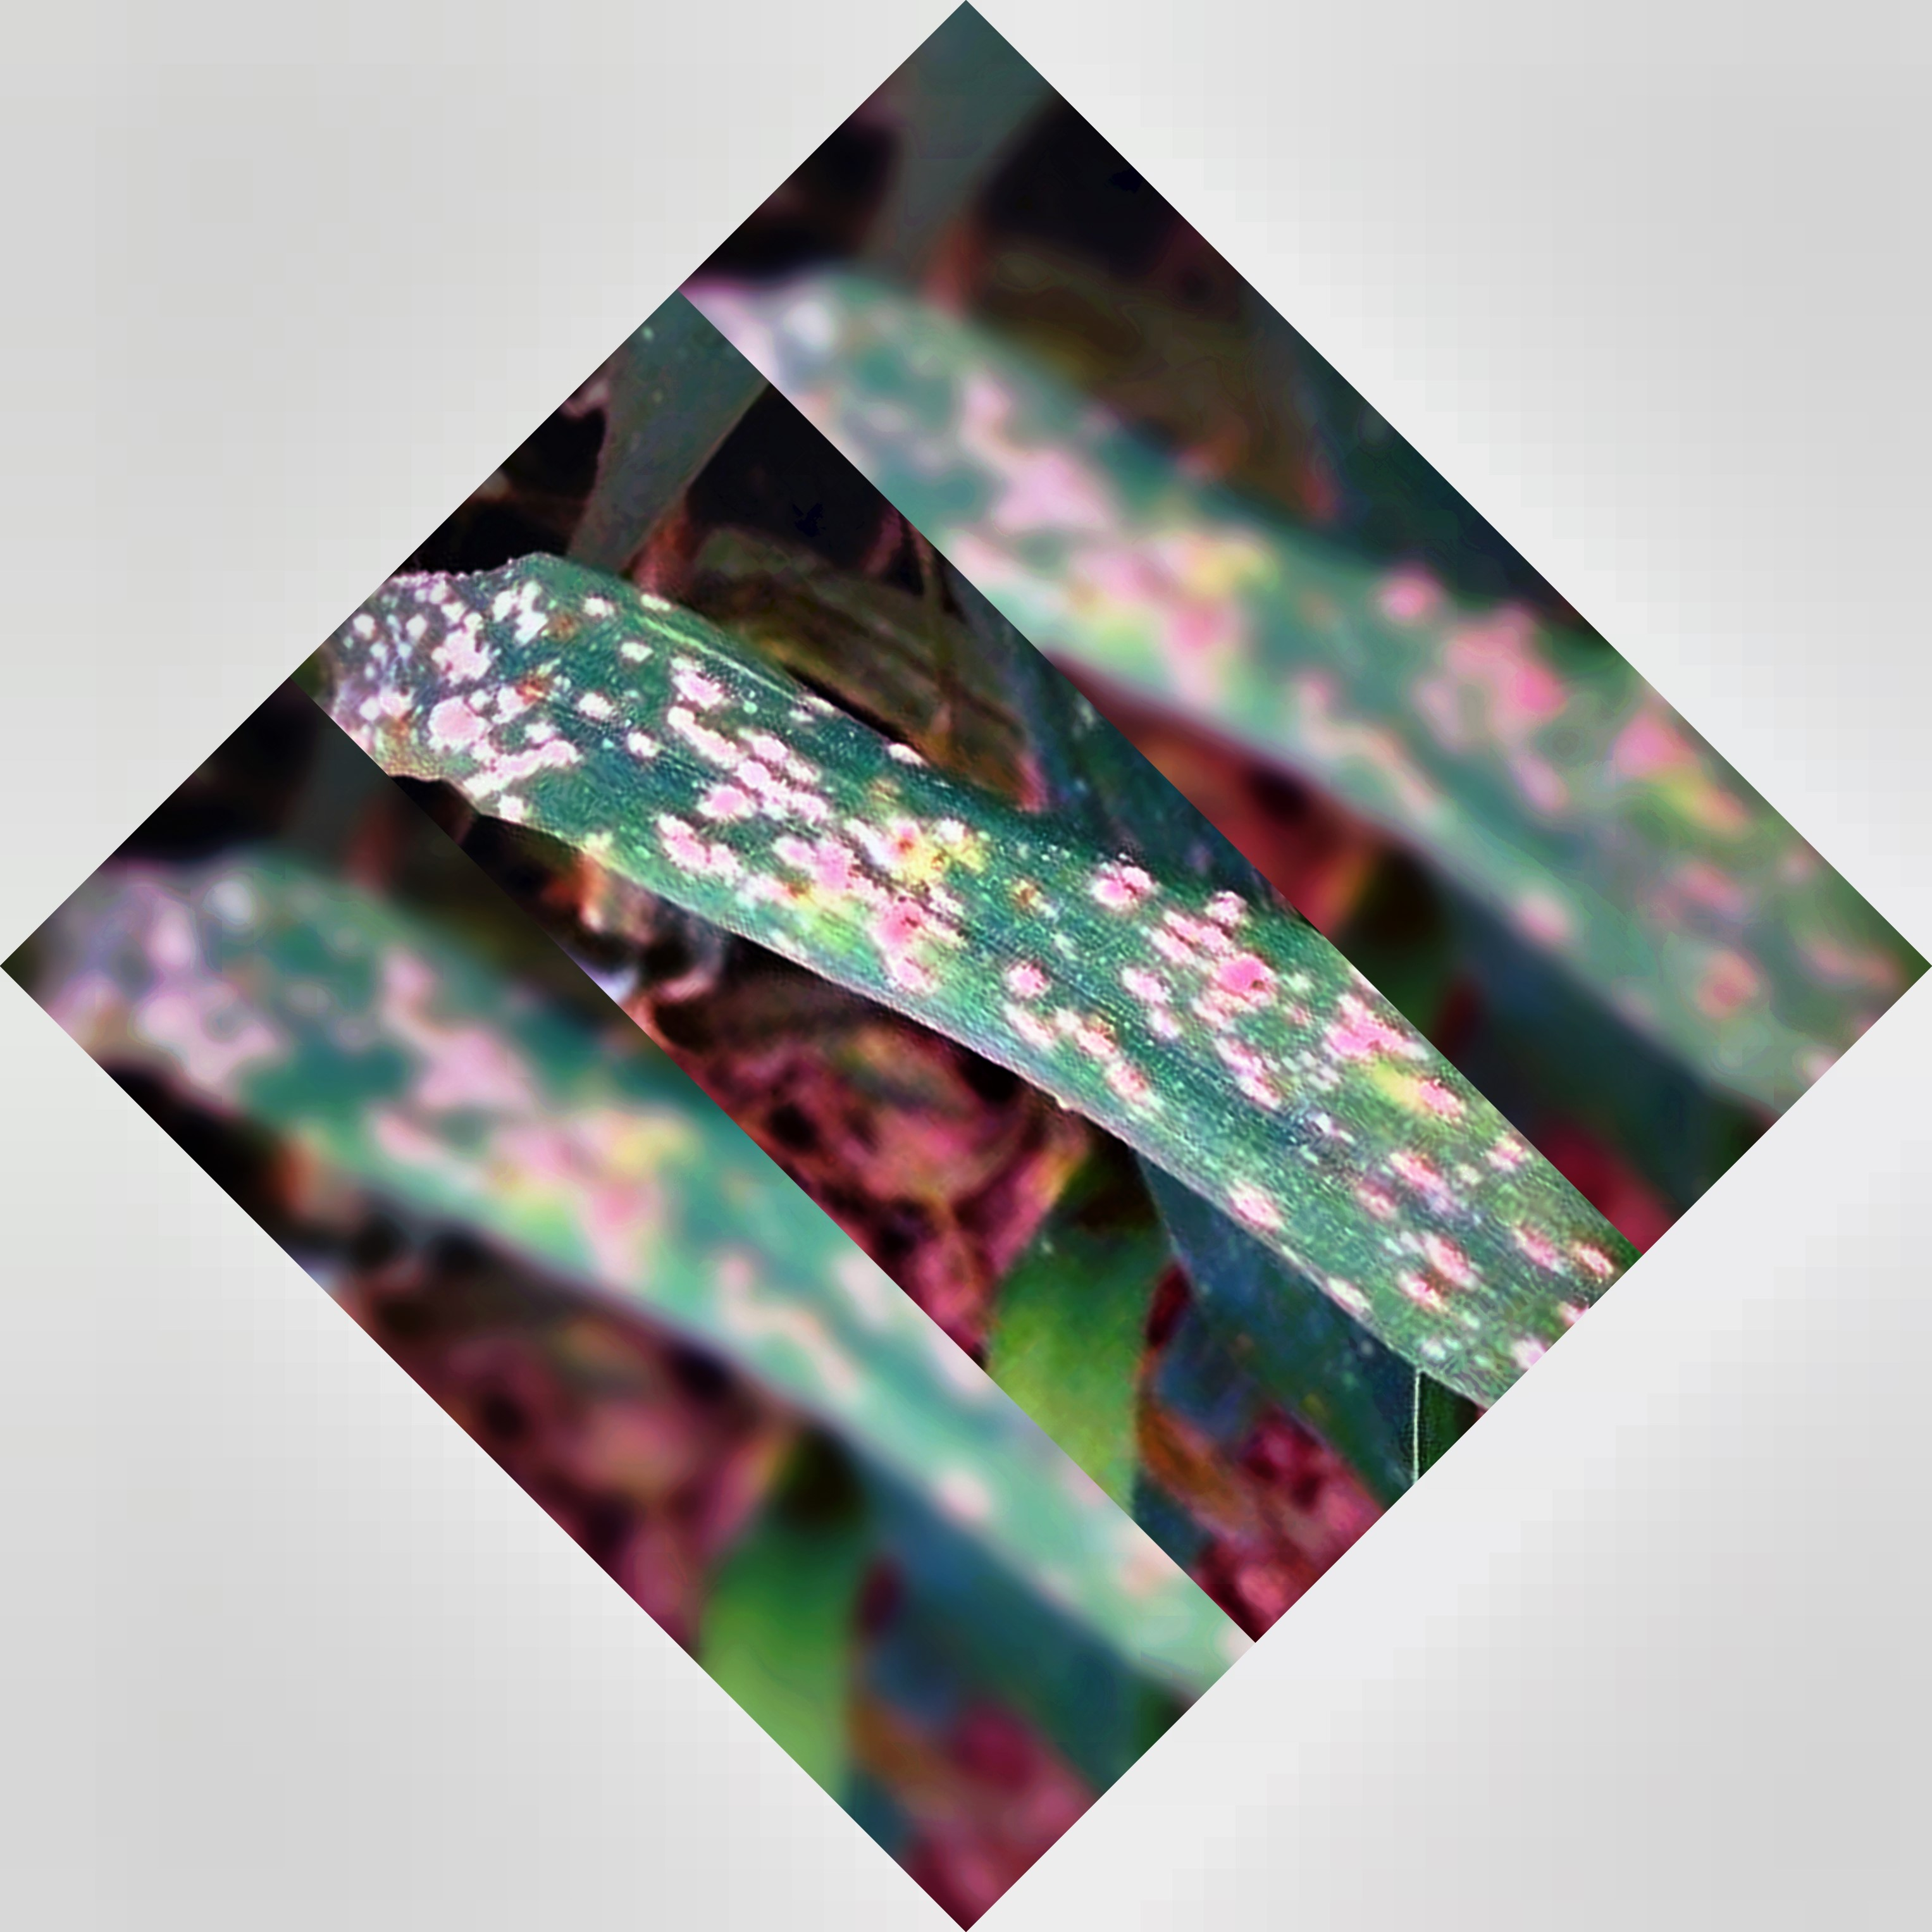Powdery Mildew: (433, 598, 1520, 1293)
